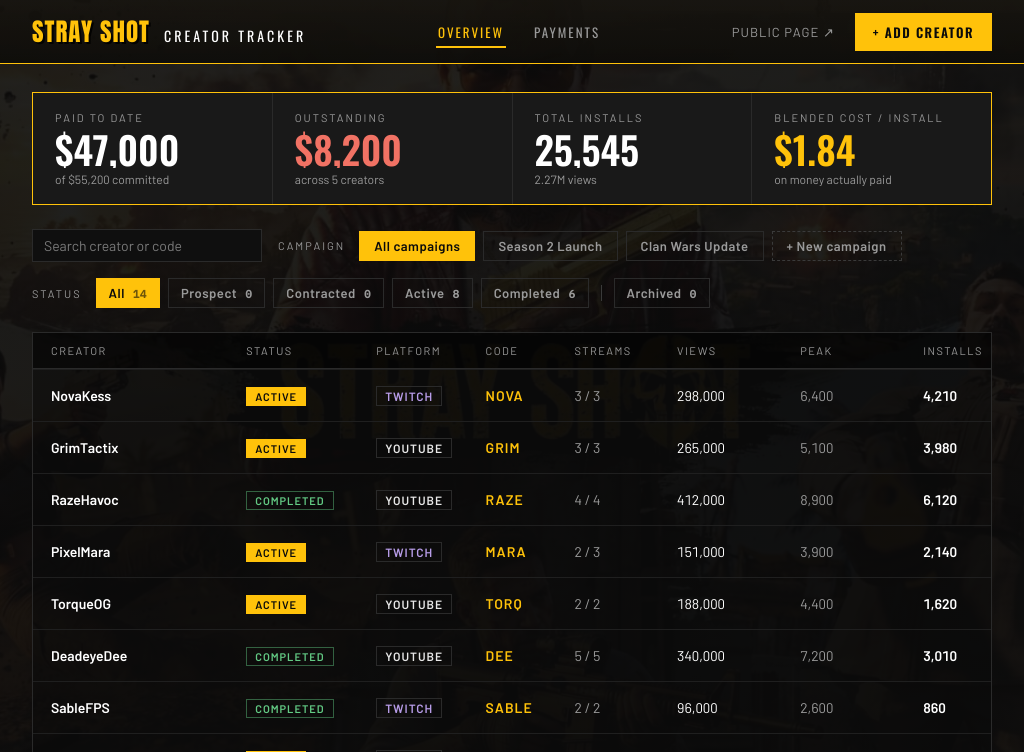
Test: searching the ledger › finds a payment by the reference on the statement
Click the button "Payments". click: (567, 32)
box: [532,16,602,48]
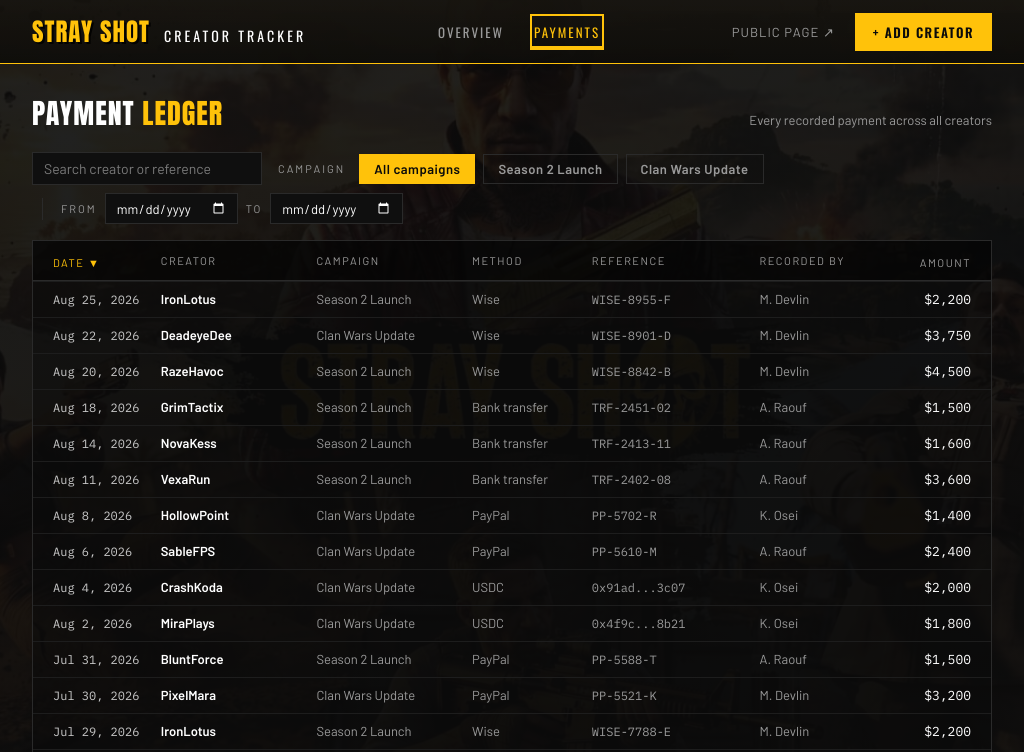
Type "wise-8842" into the search field named "Search payments by creator or reference". click: (147, 168)
box: [32,152,262,185]
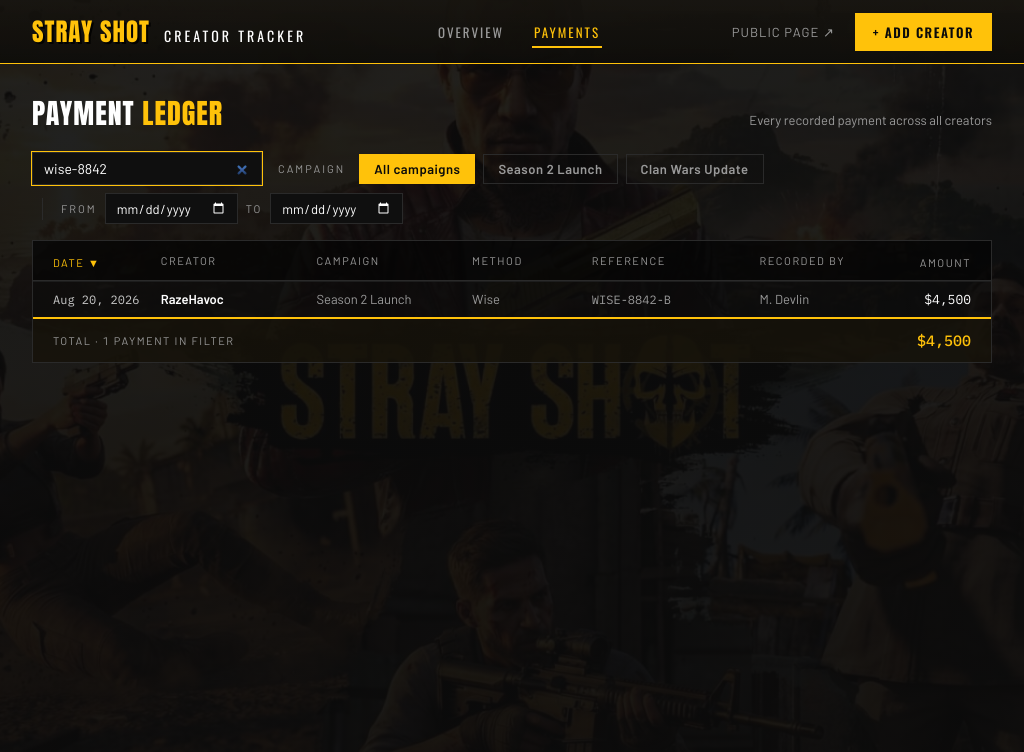
Now the column heading "Total · 1 payment in filter" is shown, box [33,318,883,362]
Now the text "$4,500" in the row of "Total ·" is shown, box [917,331,971,350]
